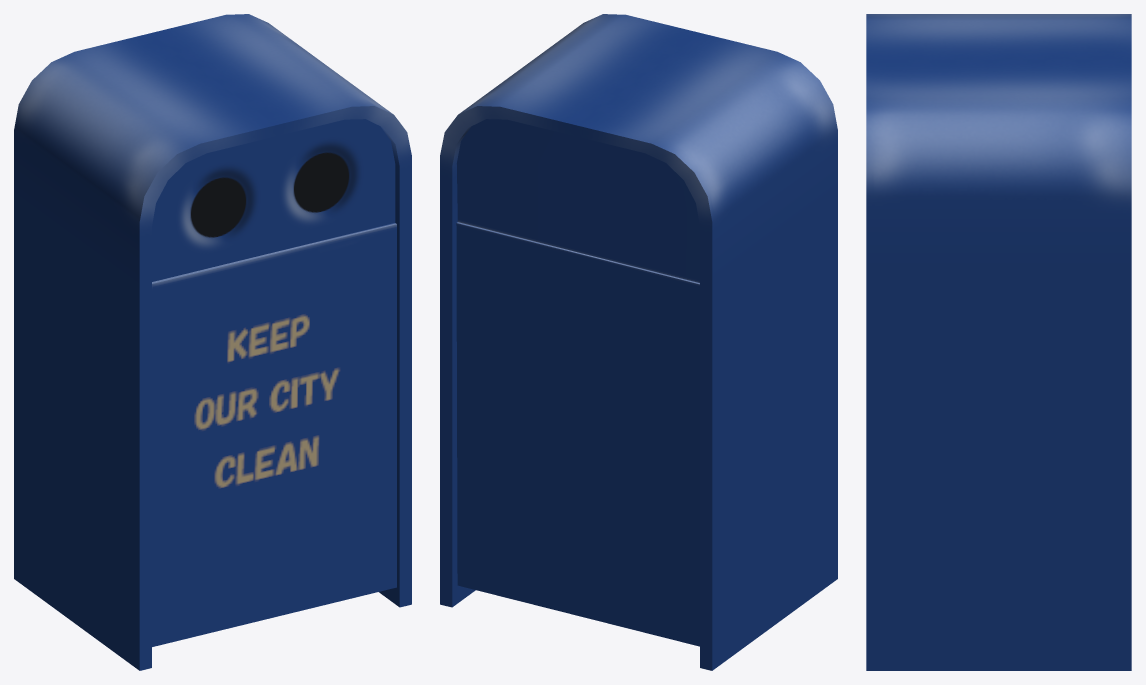
File: BgMD_garbagebox.fbx
The picture shows the model from 3 angles, left to right: view 1: azimuth 30°, elevation 25°; view 2: azimuth 150°, elevation 25°; view 3: azimuth 270°, elevation 25°; orthographic projection. The views are drawn at different scales.
Visible parts, largest first — view 1: BgMD_garbagebox; view 2: BgMD_garbagebox; view 3: BgMD_garbagebox.
Part boxes in pixels (x1,y1,x2,y2): BgMD_garbagebox: (14,14,411,670); BgMD_garbagebox: (440,14,837,670); BgMD_garbagebox: (866,14,1131,670).
Bounding box in the file's own units: 50 × 90 × 40.
